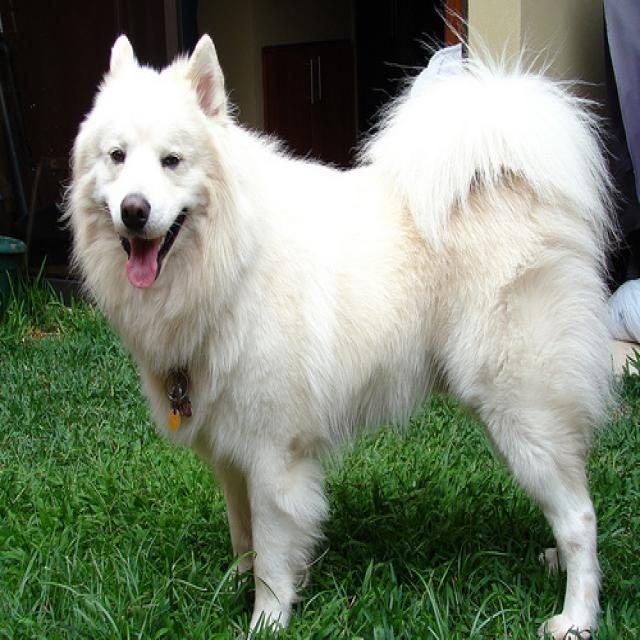dog-samoyed: (56, 14, 621, 637)
